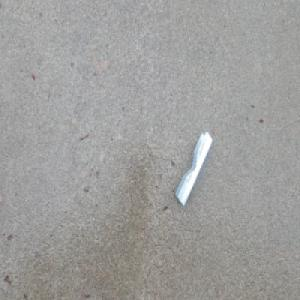ClampPart: (175, 129, 213, 207)
